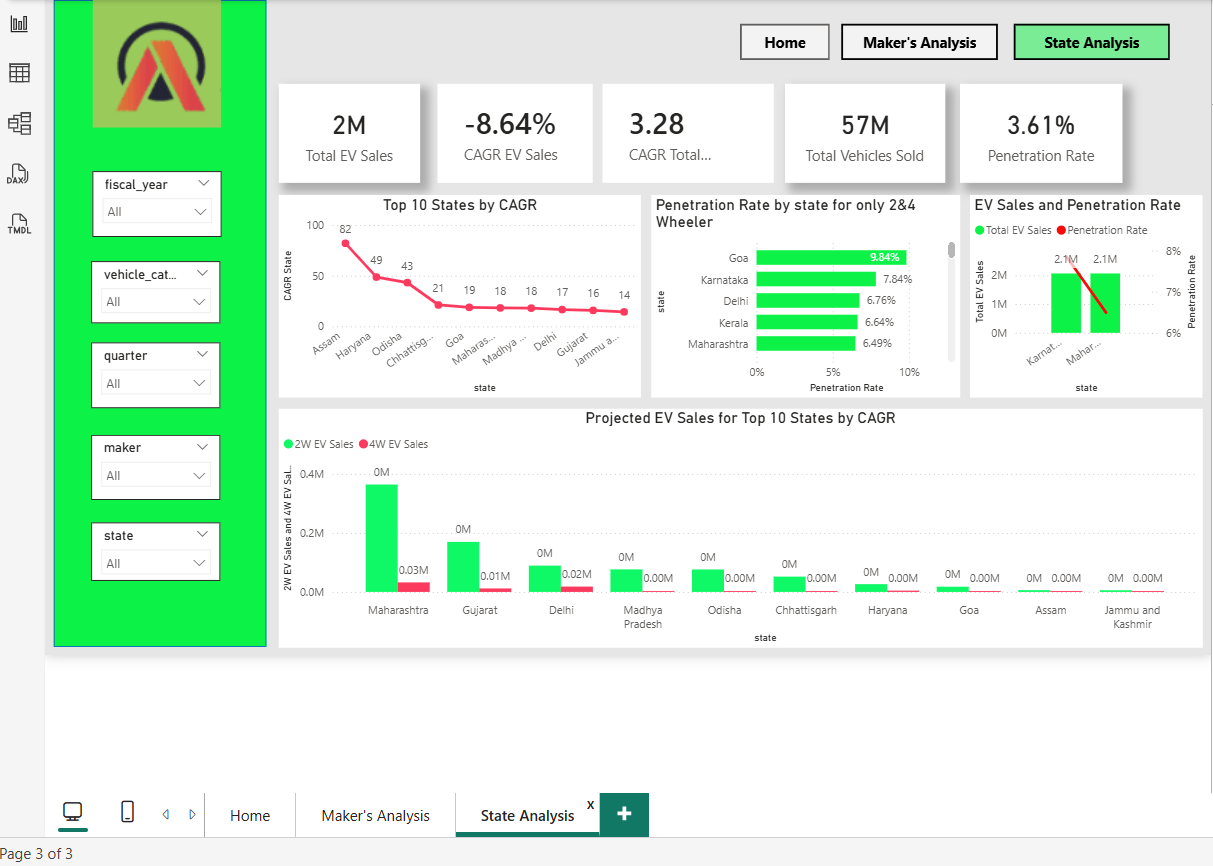

This screenshot's page, from the dashboard's own definition file:
{"tool":"powerbi","page":{"name":"State Analysis","canvas":[1280,720],"ordinal":2},"visuals":[{"type":"shape","box":[9.9,0,233.4,710.2],"z":0},{"type":"card","fields":{"Values":["public fact_sales_by_maker.Total EV Sales"]},"box":[256.6,91.9,155.1,108.4],"z":1000},{"type":"card","fields":{"Values":["public fact_sales_by_state.Total Vehicles Sold"]},"box":[812.4,91.9,175.6,108.4],"z":2000},{"type":"card","fields":{"Values":["public fact_sales_by_state.Penetration Rate"]},"box":[1004.5,91.9,178.4,108.4],"z":3000},{"type":"actionButton","box":[763,26.1,98.8,39.8],"z":4000},{"type":"actionButton","box":[873.9,25.6,171.9,39.8],"z":5000},{"type":"actionButton","box":[1063.5,26.1,171.5,39.8],"z":6000},{"type":"image","box":[35.4,0,174.4,140.4],"z":7000},{"type":"clusteredBarChart","title":"Penetration Rate by state for only 2&4 Wheeler","fields":{"Category":["public fact_sales_by_state.state"],"Y":["public fact_sales_by_state.Penetration Rate"]},"box":[665.5,214.1,338.9,222.3],"z":8000},{"type":"lineClusteredColumnComboChart","title":"EV Sales and Penetration Rate ","fields":{"Category":["public fact_sales_by_state.state"],"Y2":["public fact_sales_by_state.Penetration Rate"],"Y":["public fact_sales_by_maker.Total EV Sales"]},"box":[1015.4,214.1,255.2,222.3],"z":9000},{"type":"slicer","fields":{"Values":["public dim_date.fiscal_year"]},"box":[52.5,188.6,141.8,72.3],"z":10000},{"type":"slicer","fields":{"Values":["public fact_sales_by_maker.vehicle_category"]},"box":[51,286.4,141.8,68.1],"z":11000},{"type":"slicer","fields":{"Values":["public dim_date.quarter"]},"box":[51,375.7,141.8,72.3],"z":12000},{"type":"slicer","fields":{"Values":["public fact_sales_by_maker.maker"]},"box":[51,477.8,141.8,70.9],"z":13000},{"type":"slicer","fields":{"Values":["public fact_sales_by_state.state"]},"box":[51,574.2,141.8,63.8],"z":14000},{"type":"cardVisual","fields":{"Data":["public fact_sales_by_maker.CAGR EV Sales"]},"box":[430.9,91.9,170.2,108.4],"z":15000},{"type":"clusteredColumnChart","title":"Projected EV Sales for Top 10 States by CAGR","fields":{"Category":["public fact_sales_by_state.state"],"Y":["public fact_sales_by_state.2W EV Sales","public fact_sales_by_state.4W EV Sales"]},"box":[256.6,448.7,1014.1,262.1],"z":16000},{"type":"lineChart","title":"Top 10 States by CAGR","fields":{"Category":["public fact_sales_by_state.state"],"Y":["public fact_sales_by_state.CAGR State"]},"box":[256.6,214.1,397.9,222.3],"z":17000},{"type":"cardVisual","fields":{"Data":["public fact_sales_by_state.CAGR Total Vehicles"]},"box":[612,91.9,188,108.4],"z":18000}]}

Visuals, with their boxes on the page's 1280x720 design canvas (x1, y1, x2, y2). These are canvas units, not pixel positions in the 1213x866 screenshot, which may show the page scaled, cropped or inside an application window:
shape: {"x1": 10, "y1": 0, "x2": 243, "y2": 710}
card - public fact_sales_by_maker.Total EV Sales: {"x1": 257, "y1": 92, "x2": 412, "y2": 200}
card - public fact_sales_by_state.Total Vehicles Sold: {"x1": 812, "y1": 92, "x2": 988, "y2": 200}
card - public fact_sales_by_state.Penetration Rate: {"x1": 1004, "y1": 92, "x2": 1183, "y2": 200}
actionButton: {"x1": 763, "y1": 26, "x2": 862, "y2": 66}
actionButton: {"x1": 874, "y1": 26, "x2": 1046, "y2": 65}
actionButton: {"x1": 1064, "y1": 26, "x2": 1235, "y2": 66}
image: {"x1": 35, "y1": 0, "x2": 210, "y2": 140}
"Penetration Rate by state for only 2&4 Wheeler" clusteredBarChart: {"x1": 666, "y1": 214, "x2": 1004, "y2": 436}
"EV Sales and Penetration Rate " lineClusteredColumnComboChart: {"x1": 1015, "y1": 214, "x2": 1271, "y2": 436}
slicer - public dim_date.fiscal_year: {"x1": 52, "y1": 189, "x2": 194, "y2": 261}
slicer - public fact_sales_by_maker.vehicle_category: {"x1": 51, "y1": 286, "x2": 193, "y2": 354}
slicer - public dim_date.quarter: {"x1": 51, "y1": 376, "x2": 193, "y2": 448}
slicer - public fact_sales_by_maker.maker: {"x1": 51, "y1": 478, "x2": 193, "y2": 549}
slicer - public fact_sales_by_state.state: {"x1": 51, "y1": 574, "x2": 193, "y2": 638}
cardVisual - public fact_sales_by_maker.CAGR EV Sales: {"x1": 431, "y1": 92, "x2": 601, "y2": 200}
"Projected EV Sales for Top 10 States by CAGR" clusteredColumnChart: {"x1": 257, "y1": 449, "x2": 1271, "y2": 711}
"Top 10 States by CAGR" lineChart: {"x1": 257, "y1": 214, "x2": 654, "y2": 436}
cardVisual - public fact_sales_by_state.CAGR Total Vehicles: {"x1": 612, "y1": 92, "x2": 800, "y2": 200}
